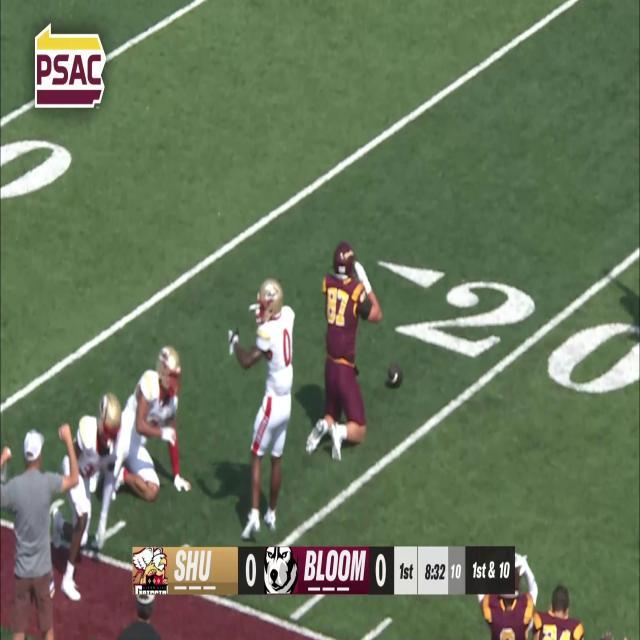football: (384, 362, 402, 388)
